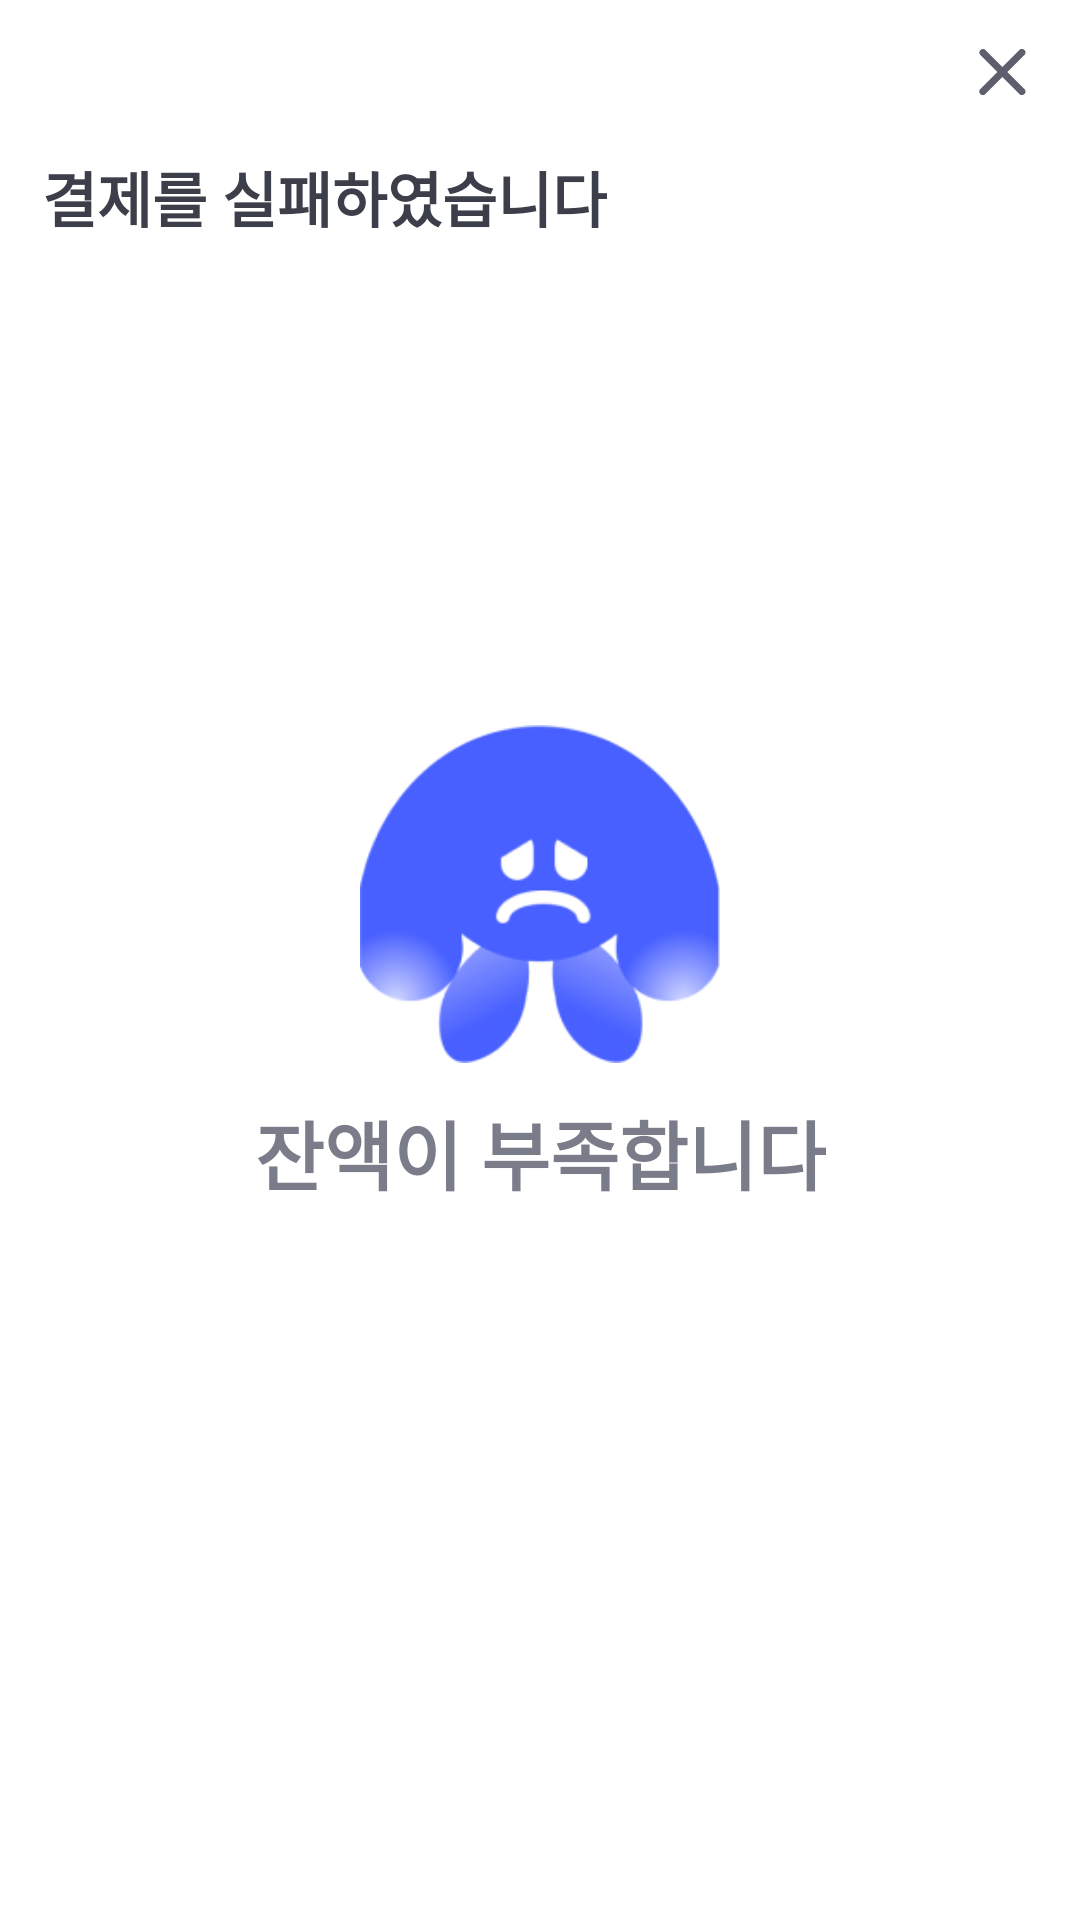

Point at icon controls on the screen. Image size 1080×1920, points as (x=x, y=y).
취소: (x=1002, y=72)
